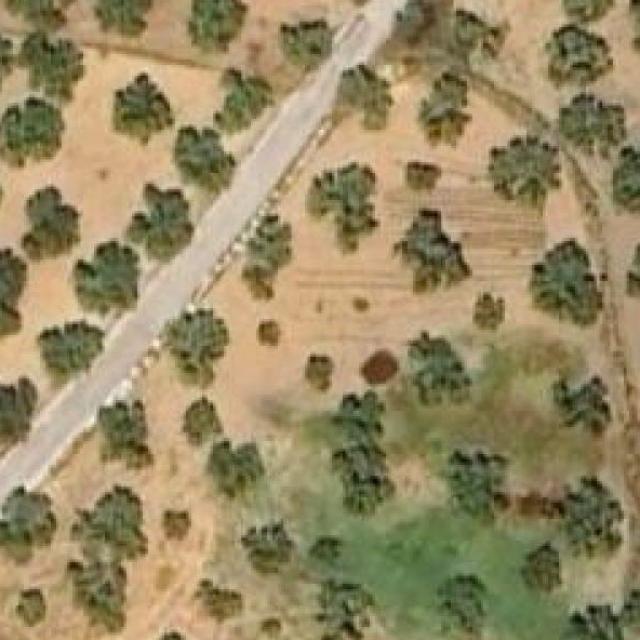Tree: (326, 392, 394, 517), (392, 207, 472, 292), (307, 162, 381, 252), (532, 236, 602, 325), (78, 484, 148, 564), (162, 311, 230, 387), (448, 449, 514, 524), (410, 333, 472, 409), (75, 238, 137, 313), (69, 559, 132, 632), (113, 72, 175, 146), (132, 184, 194, 257), (492, 138, 560, 204), (24, 182, 83, 257), (559, 95, 627, 160), (178, 126, 236, 200), (17, 36, 84, 100), (34, 321, 102, 384), (243, 216, 292, 298), (100, 397, 154, 470), (546, 25, 611, 84), (553, 375, 611, 438), (424, 70, 472, 144), (207, 438, 265, 497), (568, 484, 616, 555), (218, 68, 276, 126), (189, 0, 248, 57), (0, 486, 56, 546), (310, 584, 370, 640), (451, 8, 505, 70), (436, 575, 488, 638), (2, 100, 60, 152), (281, 20, 335, 74), (342, 65, 394, 119), (0, 373, 35, 449), (0, 246, 27, 340), (192, 578, 244, 625), (91, 0, 153, 38), (184, 398, 232, 446), (564, 605, 627, 640), (11, 0, 78, 30), (244, 522, 286, 569), (613, 141, 640, 214), (521, 544, 562, 592), (472, 292, 503, 333), (16, 589, 49, 627), (305, 354, 335, 392), (256, 319, 287, 355), (362, 353, 398, 384), (564, 0, 621, 19), (626, 238, 640, 313), (626, 0, 640, 63), (310, 538, 341, 566), (408, 162, 440, 189), (0, 33, 11, 100), (164, 512, 190, 538), (148, 627, 197, 640), (350, 298, 381, 314), (262, 618, 281, 638), (342, 0, 407, 5)
